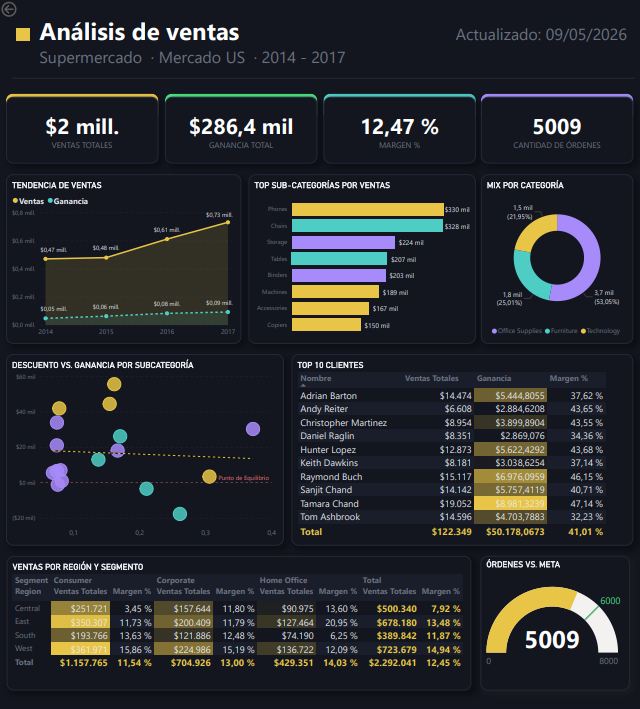

Layout of this report page (visuals, bound fields, positions):
{"tool":"powerbi","page":{"name":"Página 1","canvas":[1282,1420],"ordinal":0},"visuals":[{"type":"barChart","title":"TOP SUB-CATEGORÍAS POR VENTAS","fields":{"Y":["Tabla Medidas.Ventas Totales"],"Category":["Products.Sub-Category"],"Series":["Products.Category"]},"box":[498.8,350.4,455,340],"z":0},{"type":"lineChart","title":"TENDENCIA DE VENTAS","fields":{"Y":["Tabla Medidas.Ventas Totales","Tabla Medidas.Ganancia Total"],"Category":["Order.Ship Date.Variación.Jerarquía de fechas.Año"]},"box":[13.8,350.4,471.7,340],"z":1000},{"type":"shape","box":[13.8,188.7,305,53.3],"z":2000},{"type":"card","title":"Top Subcategorías por Ventas","fields":{"Values":["Tabla Medidas.Ventas Totales"]},"box":[13.8,195.4,305,133.3],"z":3000},{"type":"shape","box":[332.1,188.7,305,53.3],"z":4000},{"type":"card","title":"Top Subcategorías por Ventas","fields":{"Values":["Tabla Medidas.Ganancia Total"]},"box":[332.1,195.4,305,133.3],"z":5000},{"type":"shape","box":[648.8,188.7,305,53.3],"z":6000},{"type":"card","title":"Top Subcategorías por Ventas","fields":{"Values":["Tabla Medidas.Margen %"]},"box":[648.8,195.4,305,133.3],"z":7000},{"type":"shape","box":[963.8,188.7,305,53.3],"z":8000},{"type":"card","title":"Top Subcategorías por Ventas","fields":{"Values":["Tabla Medidas.Cantidad de Órdenes"]},"box":[963.8,195.4,305,133.3],"z":9000},{"type":"donutChart","title":"MIX POR CATEGORÍA","fields":{"Category":["Products.Category"],"Y":["Tabla Medidas.Cantidad de Órdenes"]},"box":[963.8,350.4,305,340],"z":10000},{"type":"pivotTable","title":"VENTAS POR REGIÓN Y SEGMENTO","fields":{"Values":["Tabla Medidas.Ventas Totales","Tabla Medidas.Margen %"],"Rows":["Location.Region"],"Columns":["Clients.Segment"]},"box":[14.7,1114,930,270],"z":11000},{"type":"tableEx","title":"TOP 10 CLIENTES","fields":{"Values":["Clients.Customer Name","Tabla Medidas.Ventas Totales","Tabla Medidas.Ganancia Total","Tabla Medidas.Margen %"]},"box":[585.4,710.4,683.3,383.3],"z":12000},{"type":"scatterChart","title":"DESCUENTO VS. GANANCIA POR SUBCATEGORÍA","fields":{"X":["Avg(Fact Sales.Discount)"],"Category":["Products.Sub-Category"],"Y":["Tabla Medidas.Ganancia Total"],"Series":["Products.Category"]},"box":[13.8,710.4,556.7,383.3],"z":13000},{"type":"gauge","title":"ÓRDENES VS. META","fields":{"Y":["Tabla Medidas.Cantidad de Órdenes"],"TargetValue":["Tabla Medidas.Meta Ordenes"]},"box":[963.3,1114,298.6,270],"z":14000},{"type":"textbox","box":[76,24,726,140],"z":15000},{"type":"shape","box":[26.7,133.3,1245,50],"z":16000},{"type":"shape","box":[34,57,27,26],"z":17000},{"type":"textbox","box":[803.3,41.7,458.3,91.7],"z":18000},{"type":"actionButton","box":[0,0,100,40],"z":19000}]}

Visuals, with their boxes in screenshot pixels (x1, y1, x2, y2), scaled from the page's 1282x1420 canvas onto the 640x709 screenshot:
"TOP SUB-CATEGORÍAS POR VENTAS" barChart: box=[249, 175, 476, 345]
"TENDENCIA DE VENTAS" lineChart: box=[7, 175, 242, 345]
shape: box=[7, 94, 159, 121]
"Top Subcategorías por Ventas" card: box=[7, 98, 159, 164]
shape: box=[166, 94, 318, 121]
"Top Subcategorías por Ventas" card: box=[166, 98, 318, 164]
shape: box=[324, 94, 476, 121]
"Top Subcategorías por Ventas" card: box=[324, 98, 476, 164]
shape: box=[481, 94, 633, 121]
"Top Subcategorías por Ventas" card: box=[481, 98, 633, 164]
"MIX POR CATEGORÍA" donutChart: box=[481, 175, 633, 345]
"VENTAS POR REGIÓN Y SEGMENTO" pivotTable: box=[7, 556, 472, 691]
"TOP 10 CLIENTES" tableEx: box=[292, 355, 633, 546]
"DESCUENTO VS. GANANCIA POR SUBCATEGORÍA" scatterChart: box=[7, 355, 285, 546]
"ÓRDENES VS. META" gauge: box=[481, 556, 630, 691]
textbox: box=[38, 12, 400, 82]
shape: box=[13, 67, 635, 92]
shape: box=[17, 28, 30, 41]
textbox: box=[401, 21, 630, 67]
actionButton: box=[0, 0, 50, 20]
